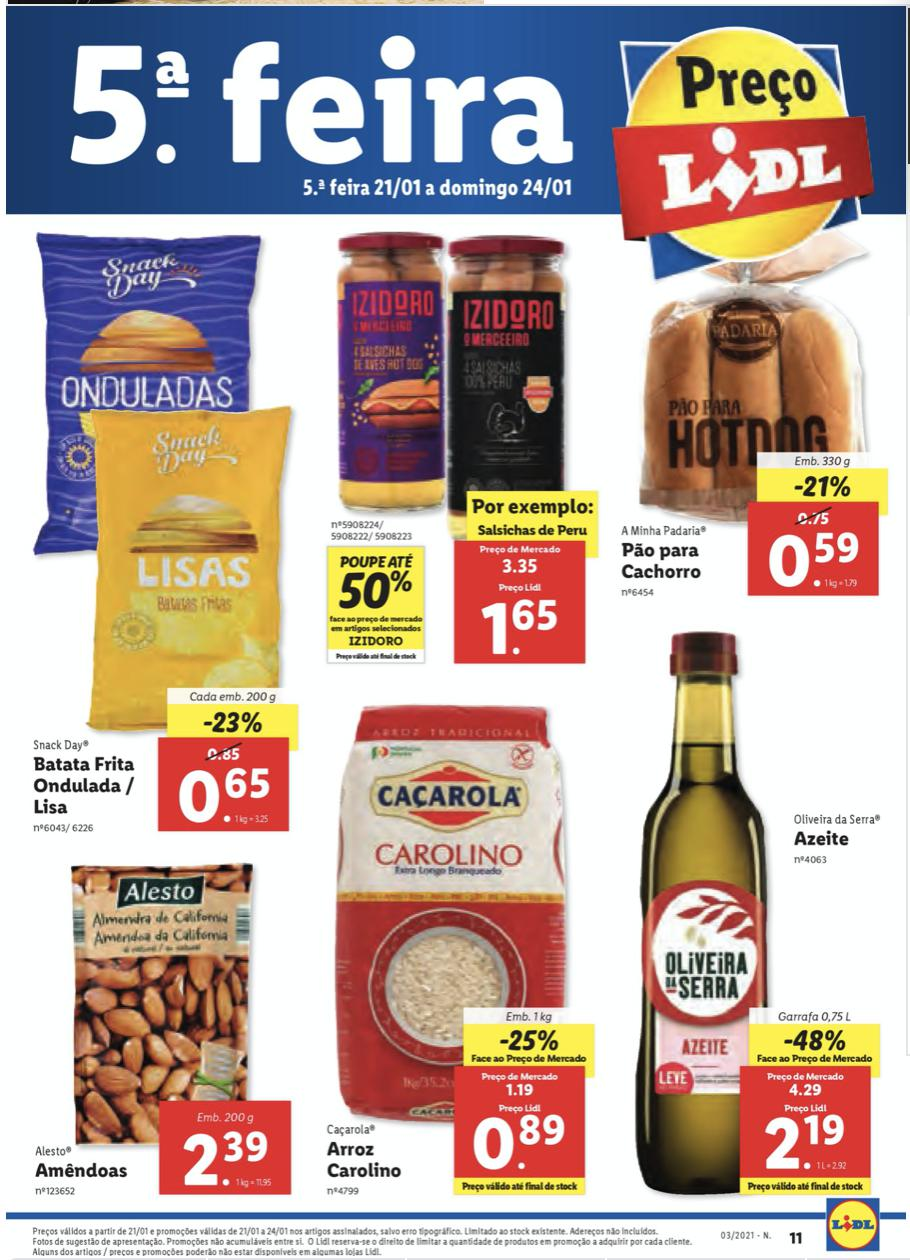name: (28, 752, 142, 813), (622, 538, 711, 585), (325, 1137, 411, 1179), (31, 1162, 134, 1184), (786, 829, 859, 856)
price: (178, 760, 275, 823), (765, 527, 864, 587), (473, 1112, 570, 1173), (762, 1106, 847, 1173), (476, 593, 564, 657), (181, 1126, 269, 1188)
product: (14, 223, 305, 837), (612, 627, 898, 1204), (322, 691, 597, 1201), (312, 223, 612, 677), (23, 852, 308, 1201), (614, 271, 901, 613)
promotion: (333, 568, 415, 612), (201, 706, 269, 737), (781, 1023, 847, 1052), (490, 1026, 562, 1052), (792, 473, 850, 501)
